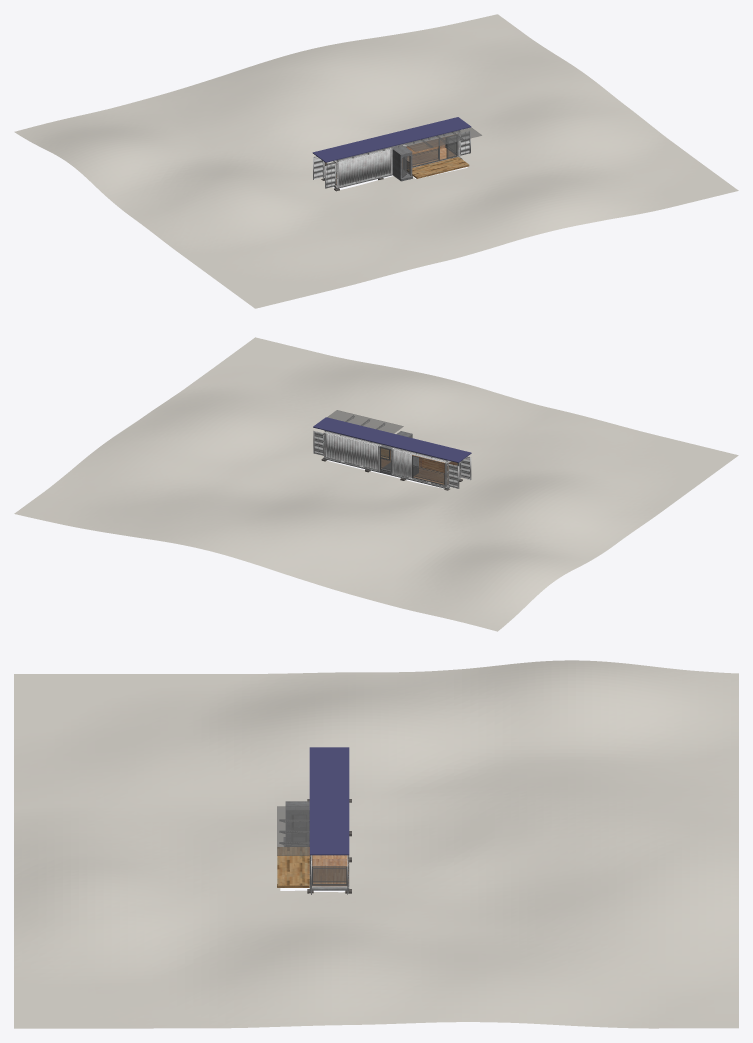
Rendered from Container-House.glb.
The picture shows the model from 3 angles, top to bottom: view 1: azimuth 30°, elevation 25°; view 2: azimuth 150°, elevation 25°; view 3: azimuth 270°, elevation 25°; orthographic projection. The views are drawn at different scales.
Parts seen in each view (by area): view 1: Geom3D (×7); view 2: Geom3D (×5); view 3: Geom3D (×6).
Boxes of the visible parts, <box> form: Geom3D (×7): <box>14,14,738,308</box>; Geom3D (×5): <box>14,337,738,631</box>; Geom3D (×6): <box>14,660,738,1028</box>.
Size of the model in its own units: 51.5 by 3.41 by 44.5.
Materials: 19 (5 with a texture image).
